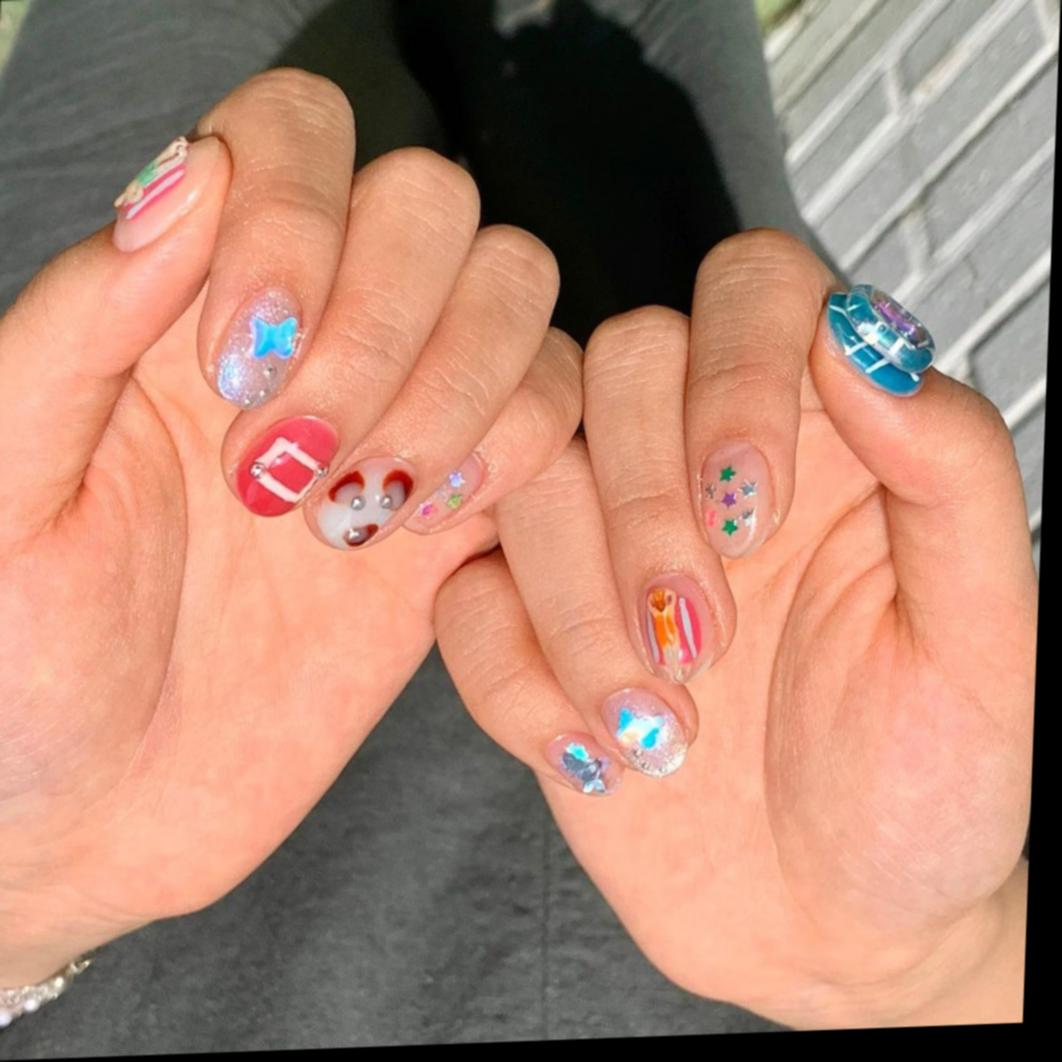nail: (823, 282, 936, 401), (212, 283, 308, 412), (302, 454, 420, 553), (233, 413, 341, 520), (695, 438, 781, 561), (598, 683, 692, 781), (640, 577, 711, 685), (403, 448, 488, 533), (114, 135, 191, 221), (542, 729, 624, 801)
